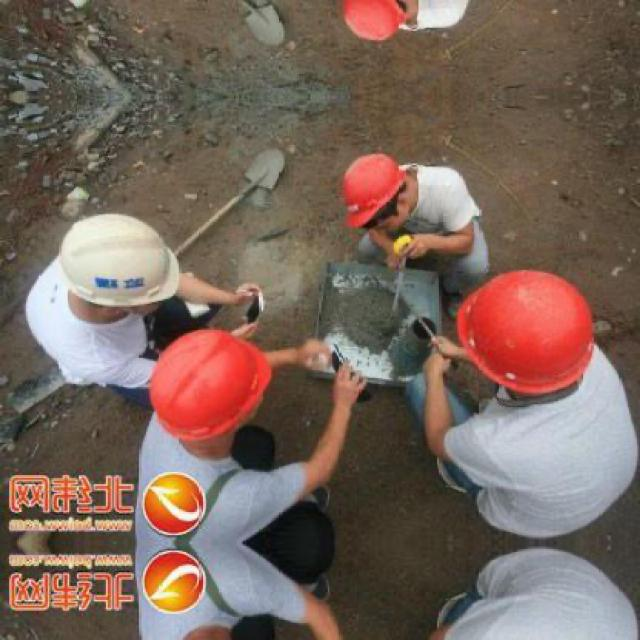helmet: (442, 260, 612, 414), (46, 200, 186, 341), (140, 319, 272, 455), (329, 148, 420, 250), (329, 0, 422, 48)
